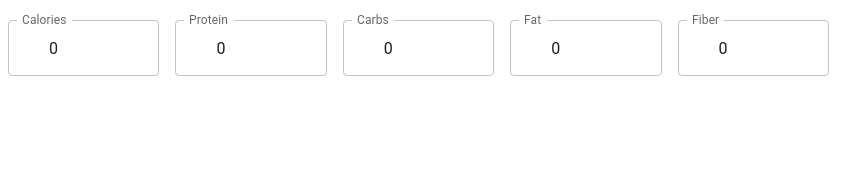
NutritionEdit › allows users to type into the macro fields
Replace the text in the field labelled "Calories" with "1": (97, 48) [35, 20, 159, 76]
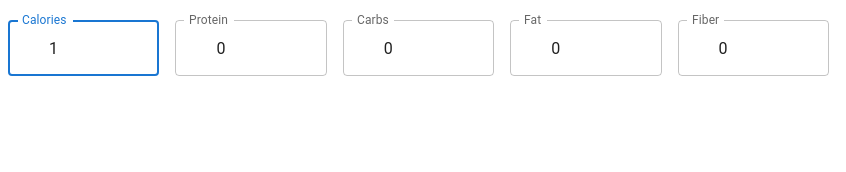
In the field labelled "Calories": (97, 48) [35, 20, 159, 76], type "2"
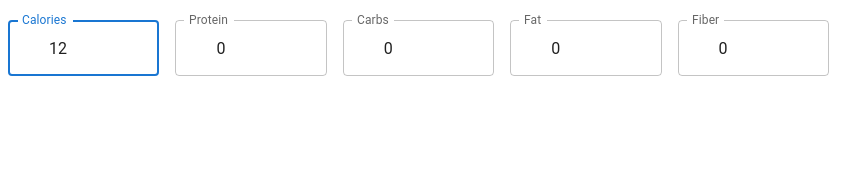
Check: the field labelled "Calories" holds "12"
In the field labelled "Calories": (97, 48) [35, 20, 159, 76], type "3"
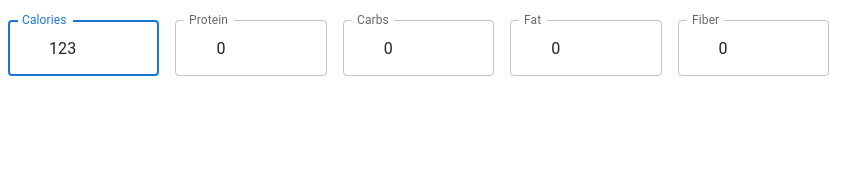
Check: the field labelled "Calories" holds "123", box [35, 20, 159, 76]
